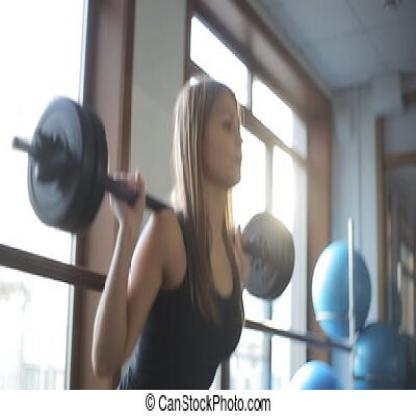Barbell: (6, 84, 112, 244)
